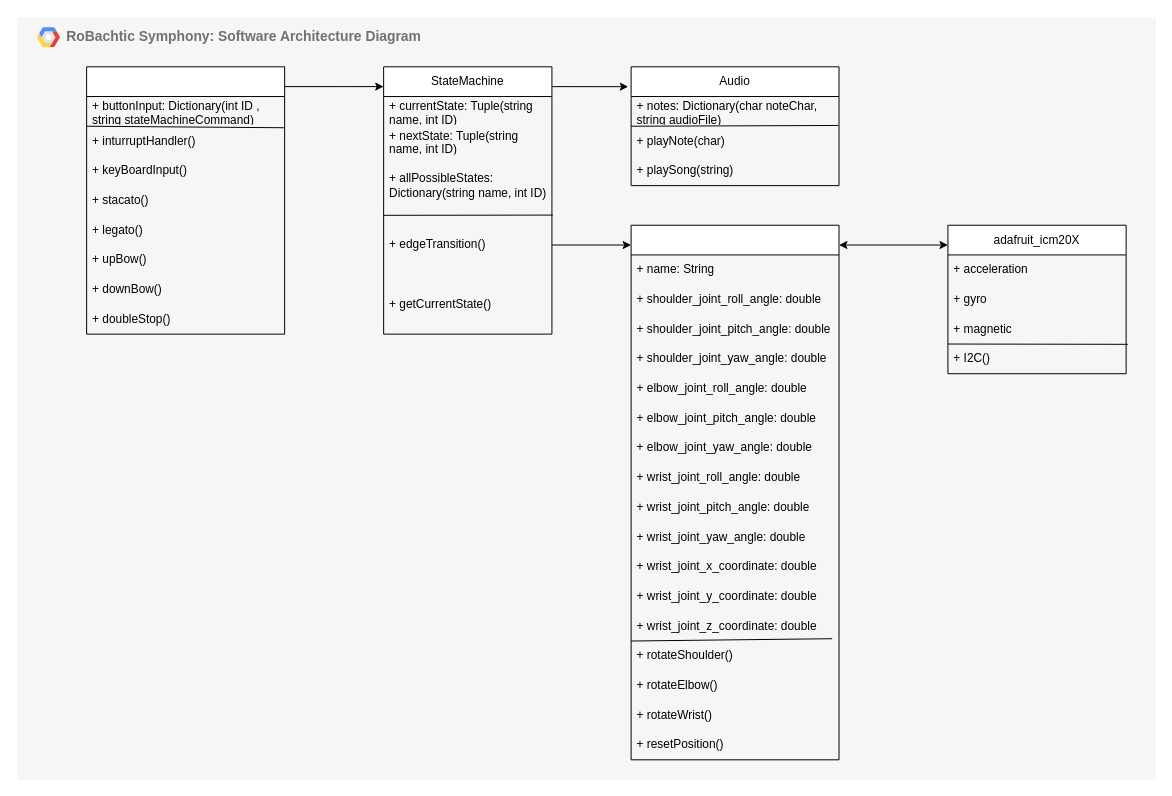
The diagram is 1172 pixels wide and 796 high, and some of its shapes have lost their labels. The shapes that lost their labels are listed below. From the top down, each one's box as (x1, y1, x2, y2) in pixels, then its label:
(86, 66, 285, 334): SystemInputs
(630, 224, 839, 760): MechatronicArm
